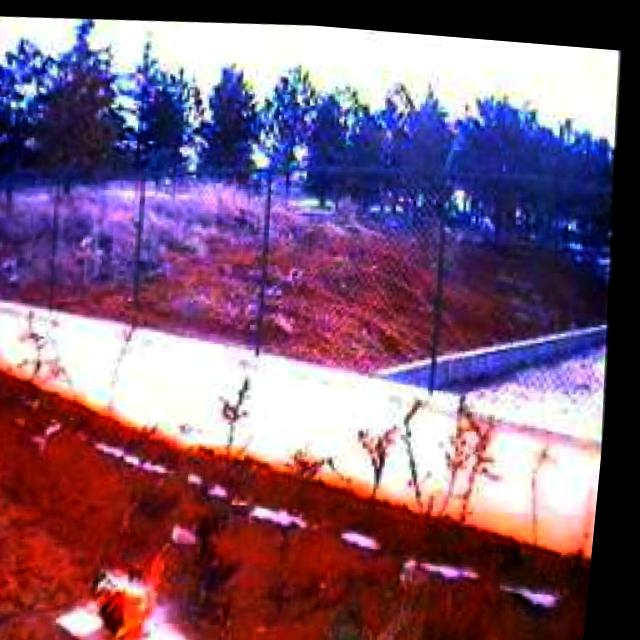helmet: (94, 533, 193, 640)
